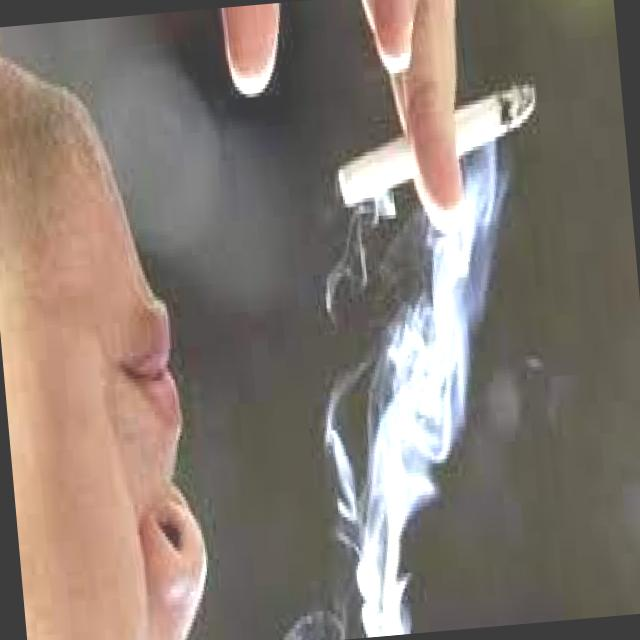smoke: (329, 76, 550, 226)
